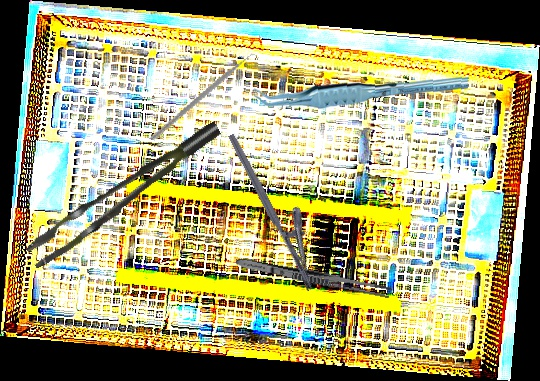Chopper: (149, 31, 264, 165)
Dressing Forceps: (234, 254, 393, 300)
Needle Holder: (227, 122, 335, 292)
Tissue Forceps: (14, 121, 237, 269), (253, 68, 469, 115)
